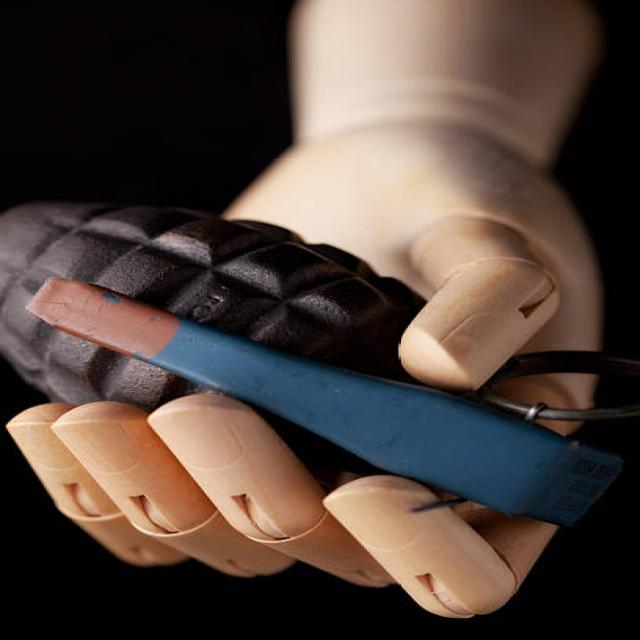grenade: (1, 201, 640, 534)
